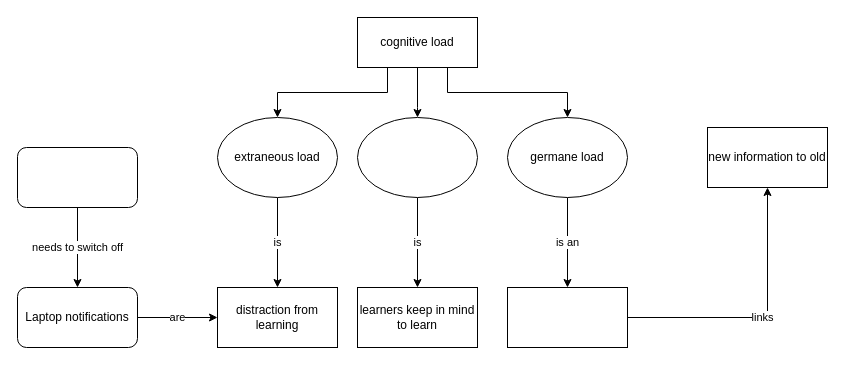
This 845x365 diagram has some shape labels left out. The shapes that lost their labels are listed below. From the top down, each one's centre as x and y in pixels, then its label:
the point at 77,177: teacher
the point at 417,157: intrinsic load
the point at 567,317: effort
